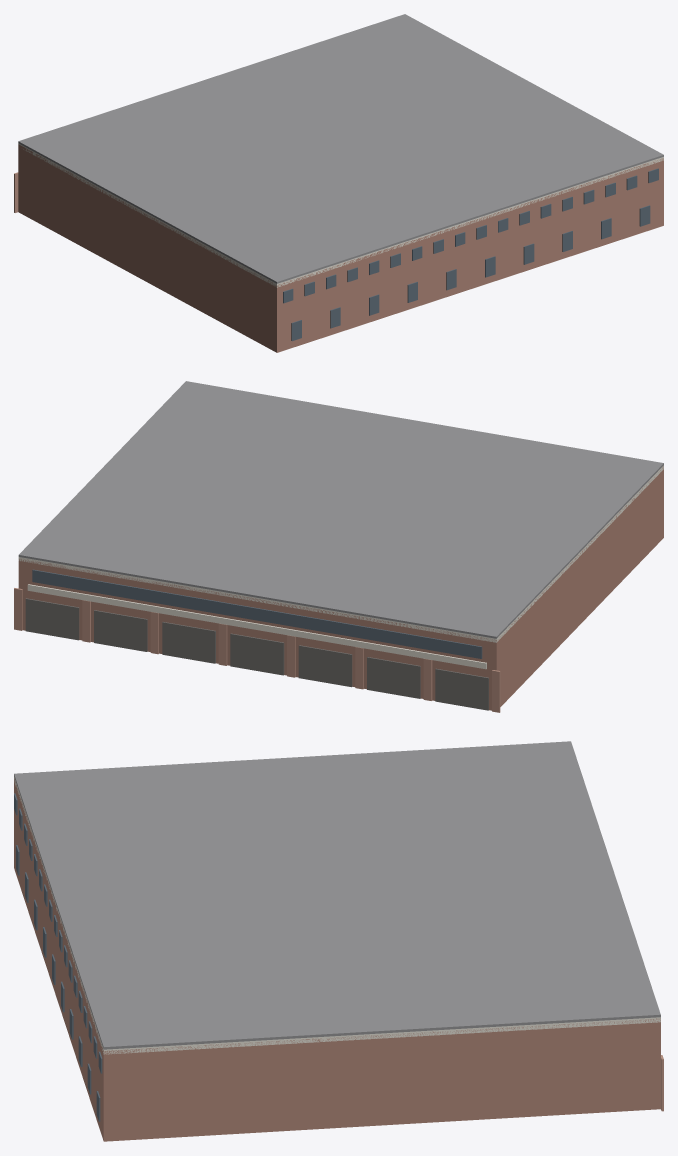
File: d_700_pleasant.glb
3 views of the same model, one above another, from view 1: azimuth 30°, elevation 25°; view 2: azimuth 150°, elevation 25°; view 3: azimuth 270°, elevation 25° (orthographic). The views are drawn at different scales.
Parts seen in each view (by area): view 1: roofcap, mass, cornice; view 2: roofcap, mass, ribbon, blankband, cornice, bay_0, bay_3, bay_4, bay_5, bay_2, bay_6, bay_1; view 3: roofcap, mass, cornice.
Boxes of the visible parts, left/top/right/bottom form: roofcap: left=18, top=14, right=663, bottom=283; mass: left=18, top=144, right=663, bottom=352; cornice: left=18, top=143, right=663, bottom=287; roofcap: left=18, top=381, right=663, bottom=638; mass: left=18, top=466, right=663, bottom=710; ribbon: left=32, top=569, right=482, bottom=658; blankband: left=27, top=584, right=486, bottom=669; cornice: left=18, top=465, right=663, bottom=642; bay_0: left=25, top=598, right=79, bottom=640; bay_3: left=230, top=633, right=284, bottom=675; bay_4: left=298, top=645, right=352, bottom=687; bay_5: left=367, top=657, right=420, bottom=698; bay_2: left=162, top=622, right=215, bottom=663; bay_6: left=435, top=668, right=488, bottom=710; bay_1: left=94, top=610, right=147, bottom=651; roofcap: left=14, top=741, right=660, bottom=1049; mass: left=14, top=778, right=660, bottom=1141; cornice: left=14, top=776, right=660, bottom=1054.
Bounding box in the file's own units: 61.07 × 8.73 × 54.42.
